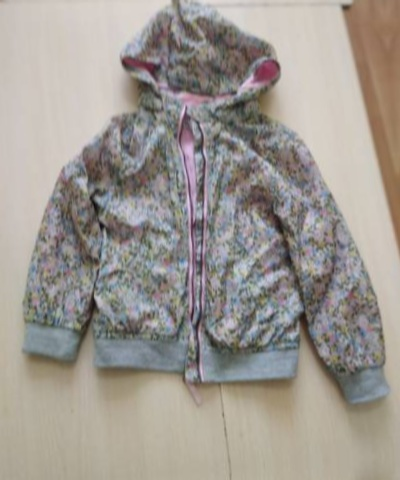Hoodie: (0, 14, 400, 425), (396, 0, 400, 393)
